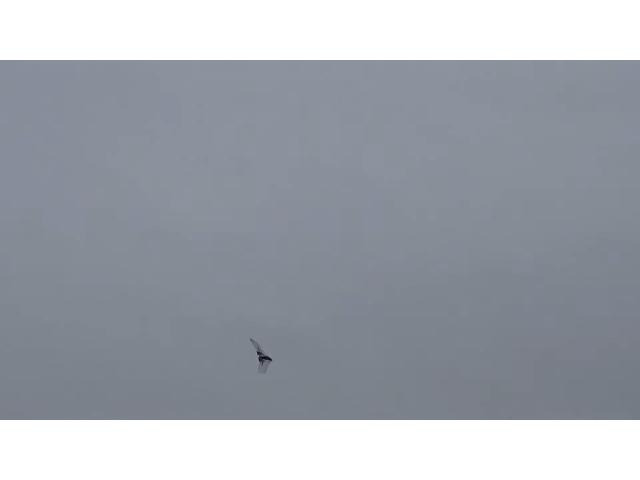Anti-Drone: (251, 338, 271, 374)
